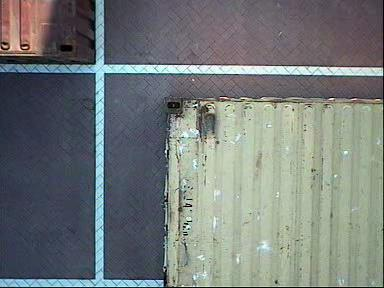groundmarker_2: (184, 158, 227, 217)
